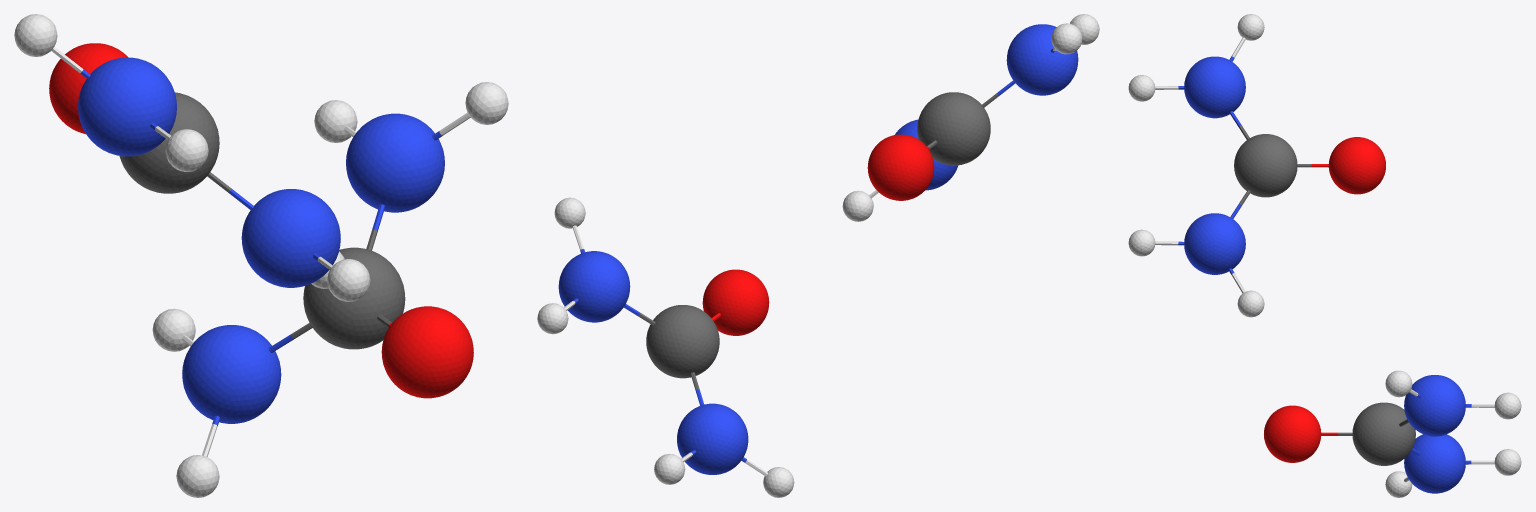
The model's file is 006_write_obj.obj.
3 views of the same model, side by side, from view 1: azimuth 30°, elevation 25°; view 2: azimuth 150°, elevation 25°; view 3: azimuth 270°, elevation 25° (orthographic). The views are drawn at different scales.
Parts seen in each view (by area): view 1: ball_3, ball_4, ball_11, ball_12, ball_2, ball_1, ball_9, ball_10, ball_16, ball_15, ball_6, ball_13 (+3 smaller); view 2: ball_1, ball_9, ball_3, ball_4, ball_11, ball_10, ball_2, ball_13, ball_7, ball_8, ball_12, ball_14 (+2 smaller); view 3: ball_9, ball_1, ball_11, ball_12, ball_3, ball_4, ball_2, ball_10, ball_14, ball_16, ball_5, ball_7 (+4 smaller).
Boxes of the visible parts, x1,y1,x2,y2 form: ball_3: [346, 113, 444, 212]; ball_4: [182, 325, 281, 423]; ball_11: [78, 57, 176, 156]; ball_12: [241, 189, 340, 287]; ball_2: [381, 306, 473, 398]; ball_1: [303, 247, 405, 349]; ball_9: [119, 92, 219, 193]; ball_10: [49, 43, 128, 134]; ball_16: [327, 259, 370, 301]; ball_15: [165, 129, 208, 171]; ball_6: [176, 455, 219, 497]; ball_13: [14, 14, 57, 56]; ball_1: [646, 305, 719, 378]; ball_9: [917, 92, 990, 165]; ball_3: [558, 251, 630, 322]; ball_4: [677, 403, 748, 474]; ball_11: [1006, 24, 1078, 95]; ball_10: [867, 134, 934, 200]; ball_2: [702, 269, 769, 335]; ball_13: [1051, 23, 1082, 54]; ball_7: [537, 303, 568, 334]; ball_8: [654, 453, 685, 484]; ball_12: [895, 119, 958, 190]; ball_14: [842, 190, 873, 221]; ball_9: [1234, 134, 1297, 197]; ball_1: [1352, 402, 1415, 465]; ball_11: [1184, 56, 1245, 118]; ball_12: [1184, 213, 1245, 274]; ball_3: [1404, 375, 1465, 436]; ball_4: [1404, 434, 1465, 493]; ball_2: [1264, 405, 1321, 462]; ball_10: [1328, 137, 1385, 194]; ball_14: [1237, 290, 1264, 317]; ball_16: [1128, 229, 1155, 256]; ball_5: [1385, 370, 1412, 397]; ball_7: [1494, 392, 1521, 419].
Bounding box in the file's own units: 11.38 × 11.38 × 10.23.
